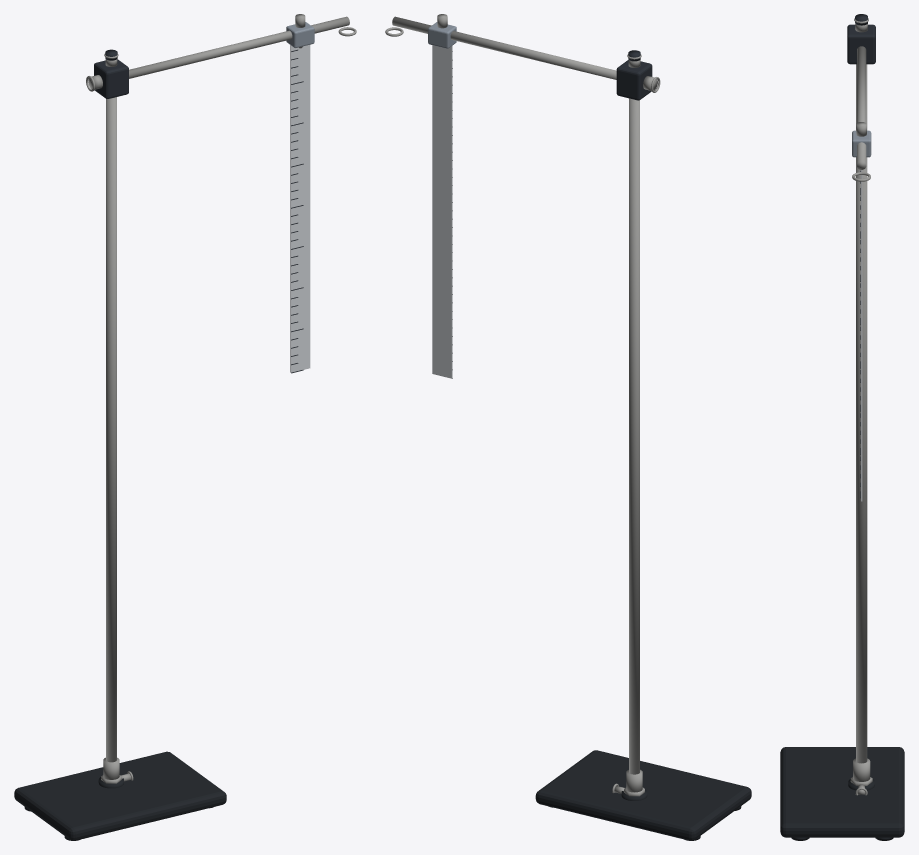
File: retort_stand.glb
3 renders of one model, left to right at view 1: azimuth 30°, elevation 25°; view 2: azimuth 150°, elevation 25°; view 3: azimuth 270°, elevation 25°, orthographic. The views are drawn at different scales.
Parts seen in each view (by area): view 1: base_plate, rod, ruler, arm, clamp_body; view 2: base_plate, rod, ruler, arm, clamp_body; view 3: base_plate, rod, arm, clamp_body, ruler, rod_collar, ruler_clamp.
Boxes of the visible parts, x1=… form: base_plate: x1=14, y1=751, x2=226, y2=840; rod: x1=106, y1=97, x2=116, y2=762; ruler: x1=290, y1=45, x2=310, y2=372; arm: x1=129, y1=16, x2=349, y2=78; clamp_body: x1=94, y1=59, x2=128, y2=98; base_plate: x1=535, y1=750, x2=751, y2=840; rod: x1=629, y1=98, x2=639, y2=774; ruler: x1=432, y1=45, x2=452, y2=378; arm: x1=392, y1=16, x2=616, y2=79; clamp_body: x1=616, y1=60, x2=652, y2=100; base_plate: x1=780, y1=747, x2=904, y2=837; rod: x1=856, y1=64, x2=867, y2=763; arm: x1=857, y1=46, x2=866, y2=169; clamp_body: x1=847, y1=24, x2=875, y2=64; ruler: x1=861, y1=170, x2=862, y2=501; rod_collar: x1=853, y1=758, x2=870, y2=781; ruler_clamp: x1=852, y1=130, x2=871, y2=157.
Size of the model in its own units: 0.41 by 0.907 by 0.13.
